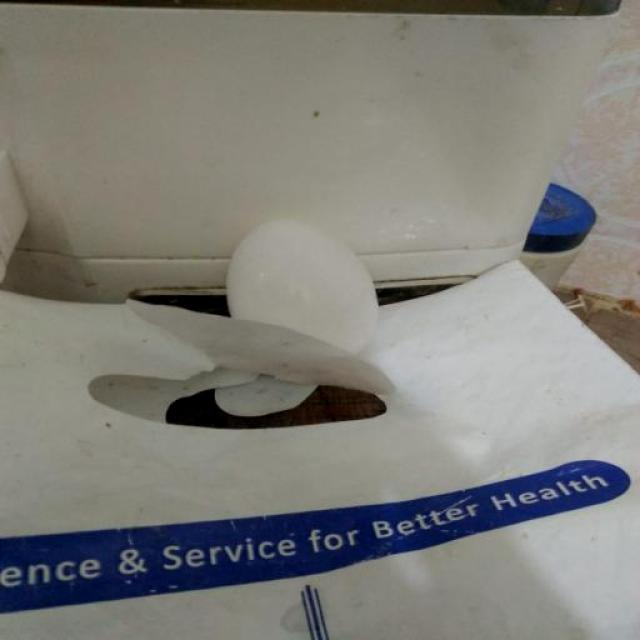telur: (224, 220, 380, 363)
